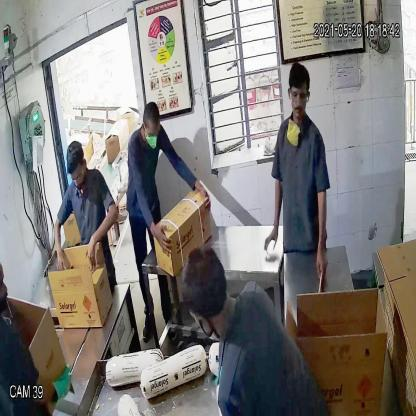goggles: (282, 83, 313, 107), (67, 168, 84, 184)
no_goggles: (138, 127, 162, 142)
